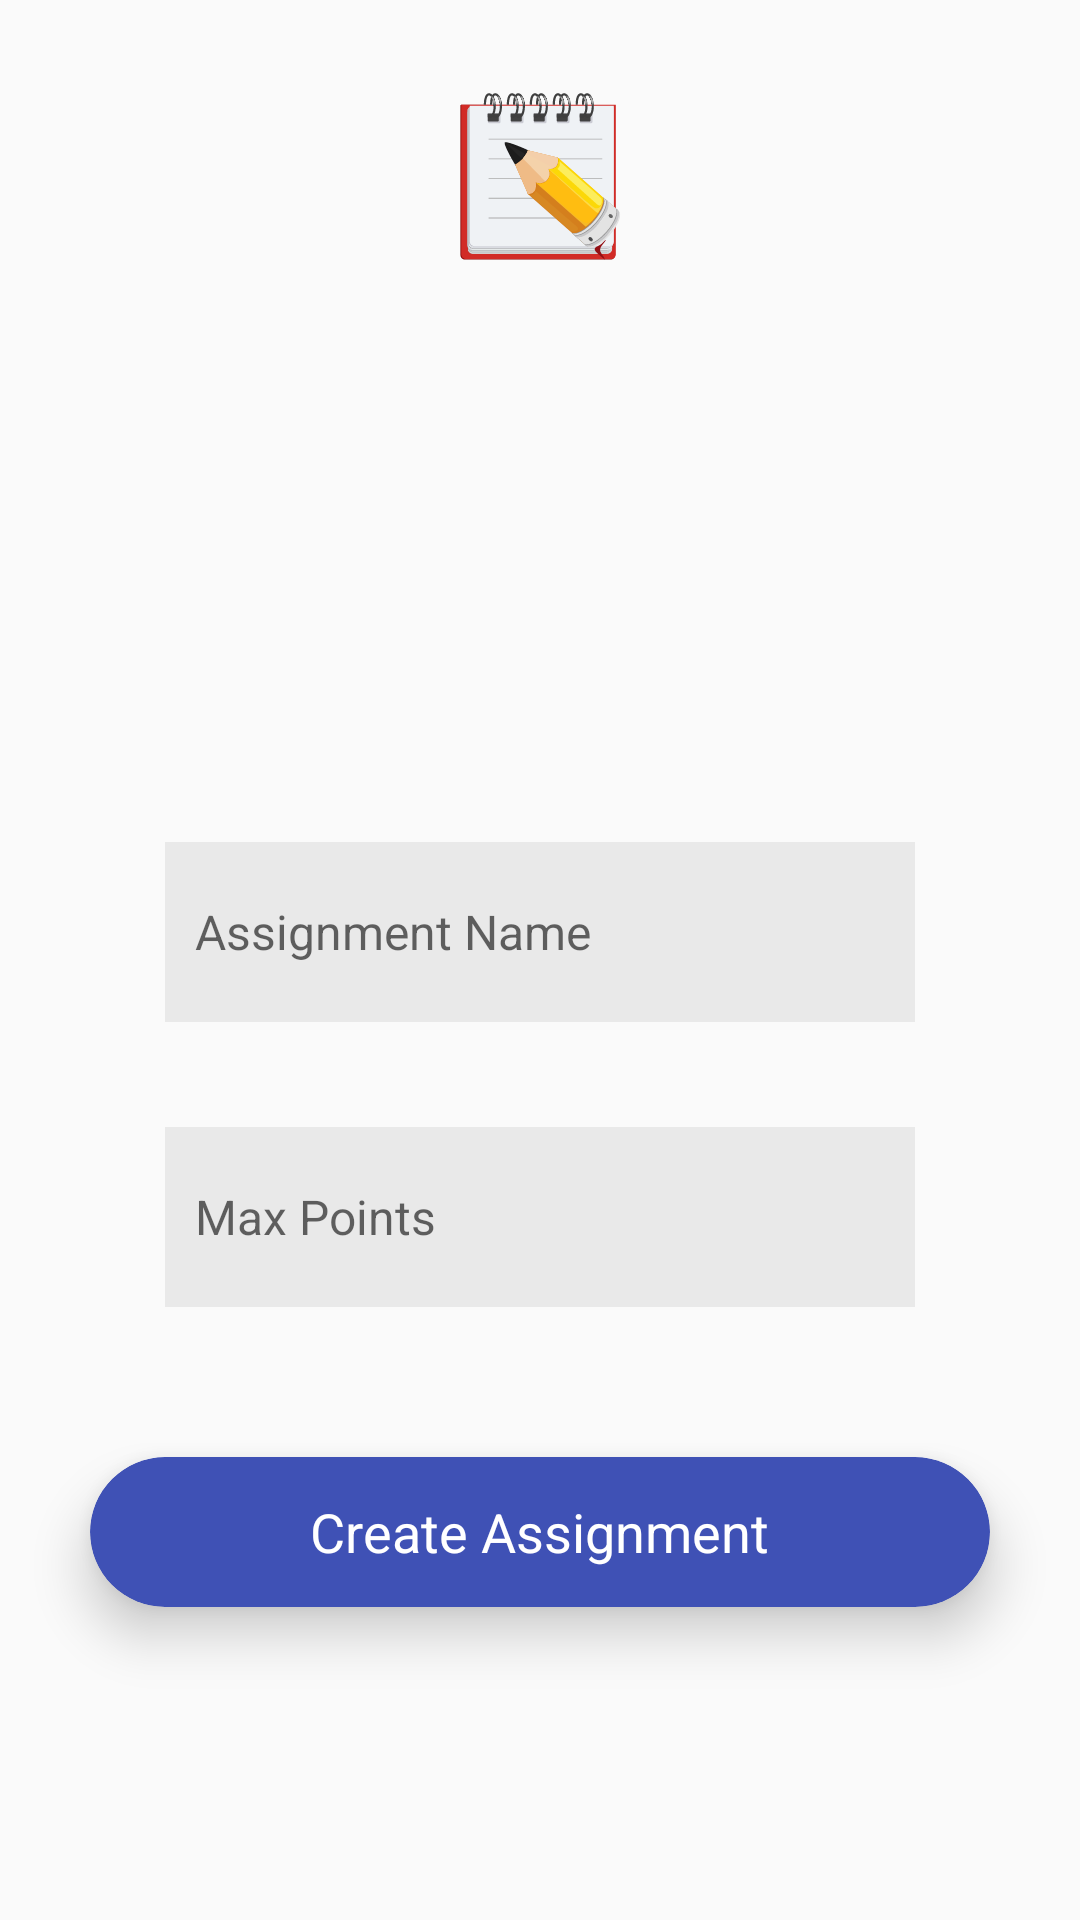

Icon bounding boxes for this 1080 x 1920 phone screenshot, format (x1, y1, x2, y2):
create assignment: (460, 93, 620, 260)
